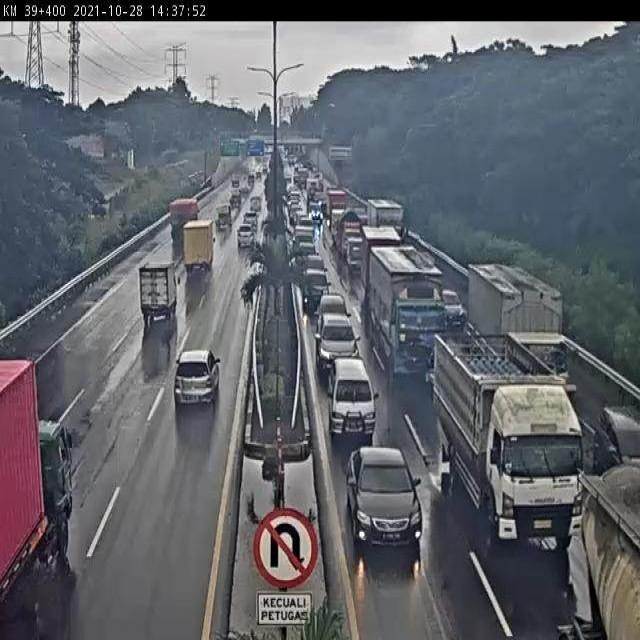truck-l-: (433, 332, 585, 551), (462, 257, 567, 403), (366, 246, 443, 382), (167, 196, 203, 237)
truck-m-: (137, 264, 179, 325)
truck-s-: (181, 223, 217, 276)
